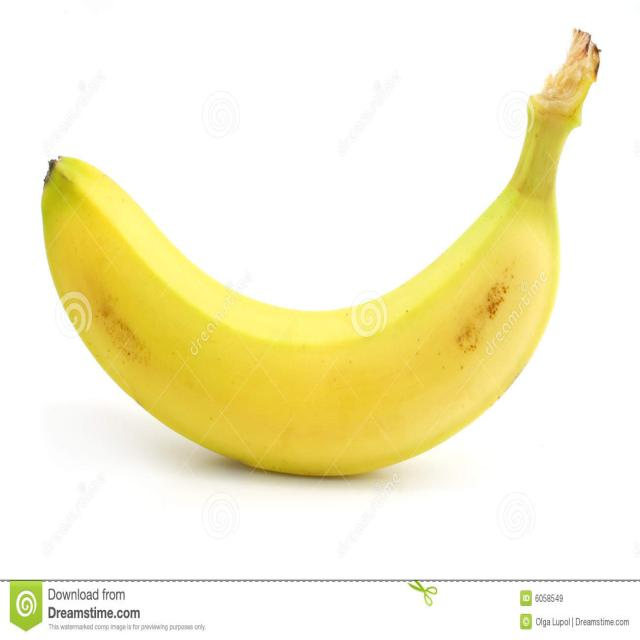non_orange: (47, 26, 599, 482)
